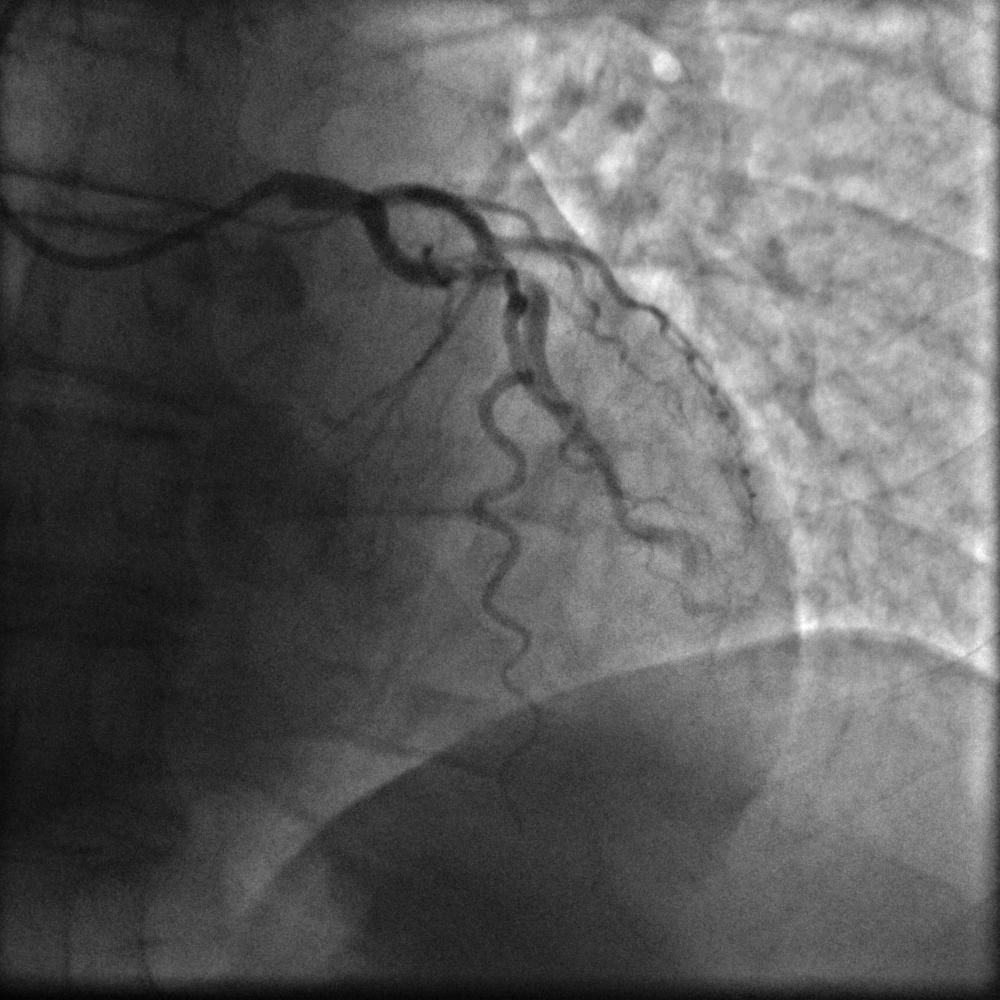Stenosis: (482, 262, 549, 293)
